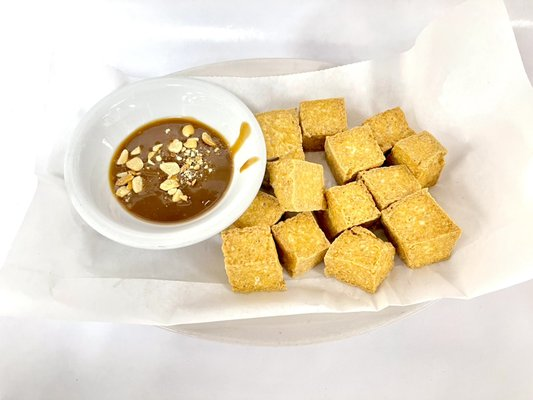soup: (380, 189, 462, 270), (324, 226, 396, 294), (221, 225, 287, 293), (271, 211, 331, 279), (256, 108, 305, 162)
sushi: (63, 78, 267, 252)
